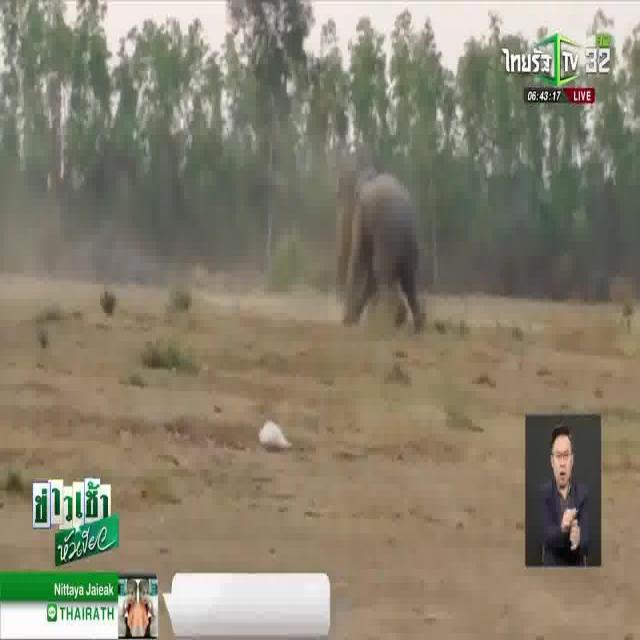Elephant: (335, 176, 422, 315)
